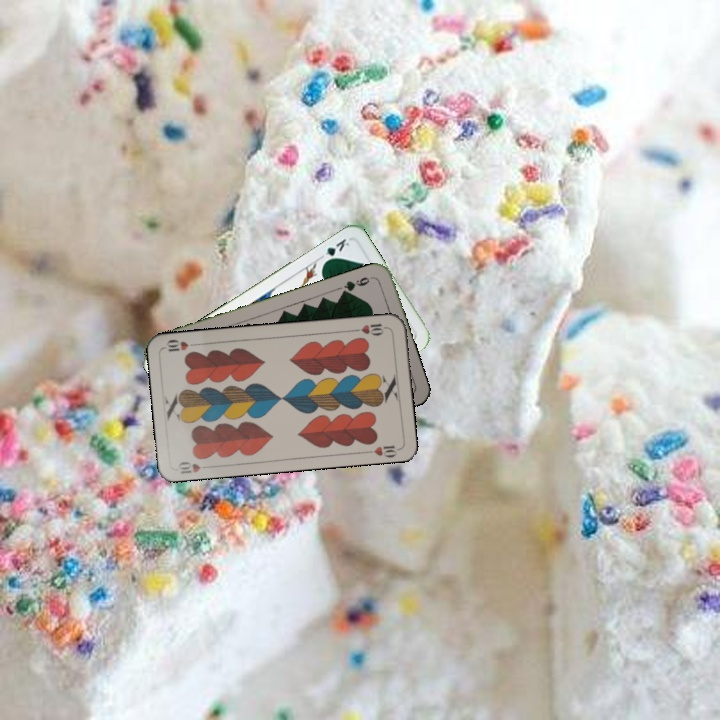G9: (338, 272, 376, 296)
GK: (319, 234, 352, 266)
H10: (350, 319, 390, 338), (174, 457, 213, 476)
